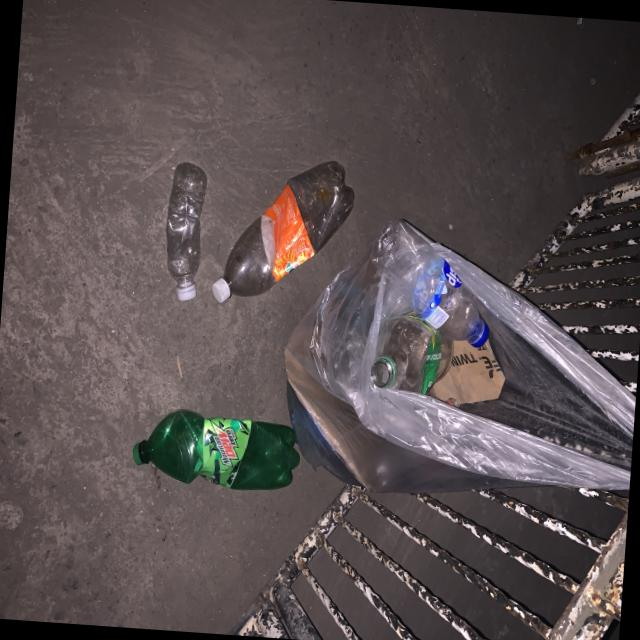Bottle: (211, 160, 353, 302), (132, 409, 298, 489), (165, 162, 206, 300)
